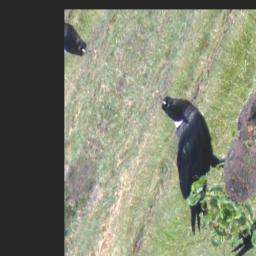Crow: (123, 85, 244, 241)
